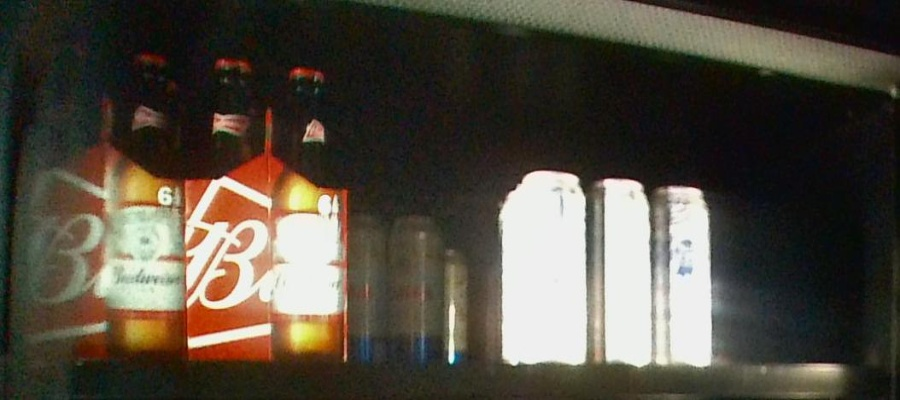bottle: (8, 36, 186, 364), (189, 56, 348, 366), (520, 168, 710, 365), (352, 210, 439, 364), (441, 244, 467, 364)
